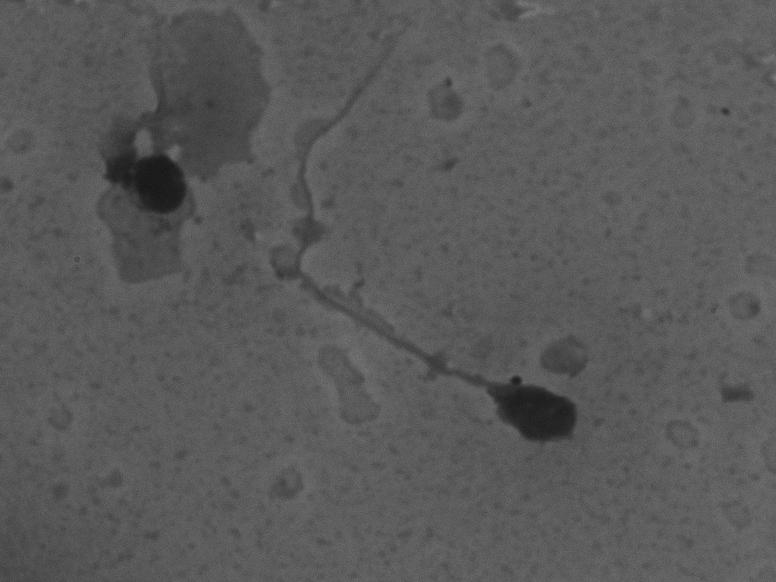Abnormal: (266, 19, 589, 456)
